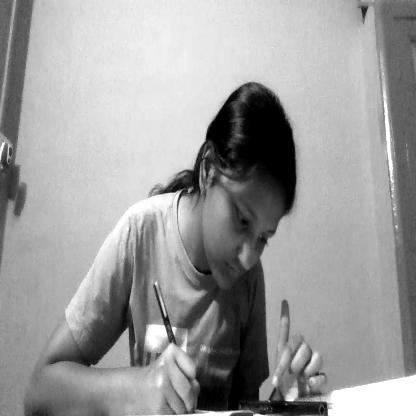Distracted: (195, 113, 291, 291)
